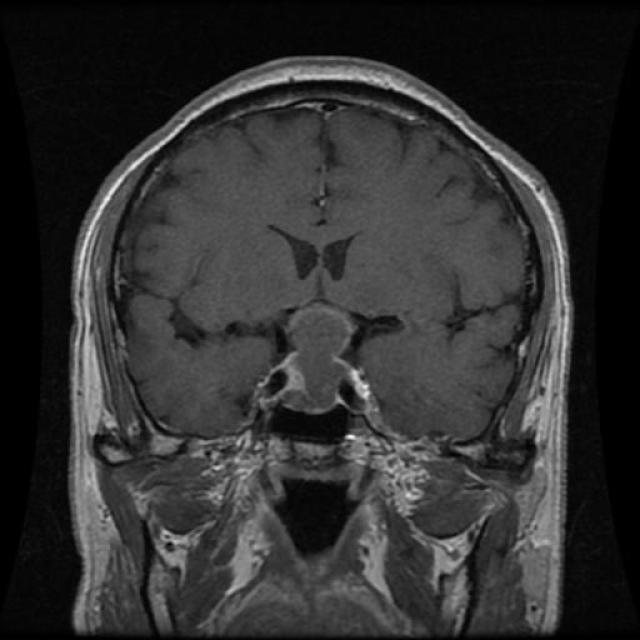pituitary: (276, 292, 382, 414)
